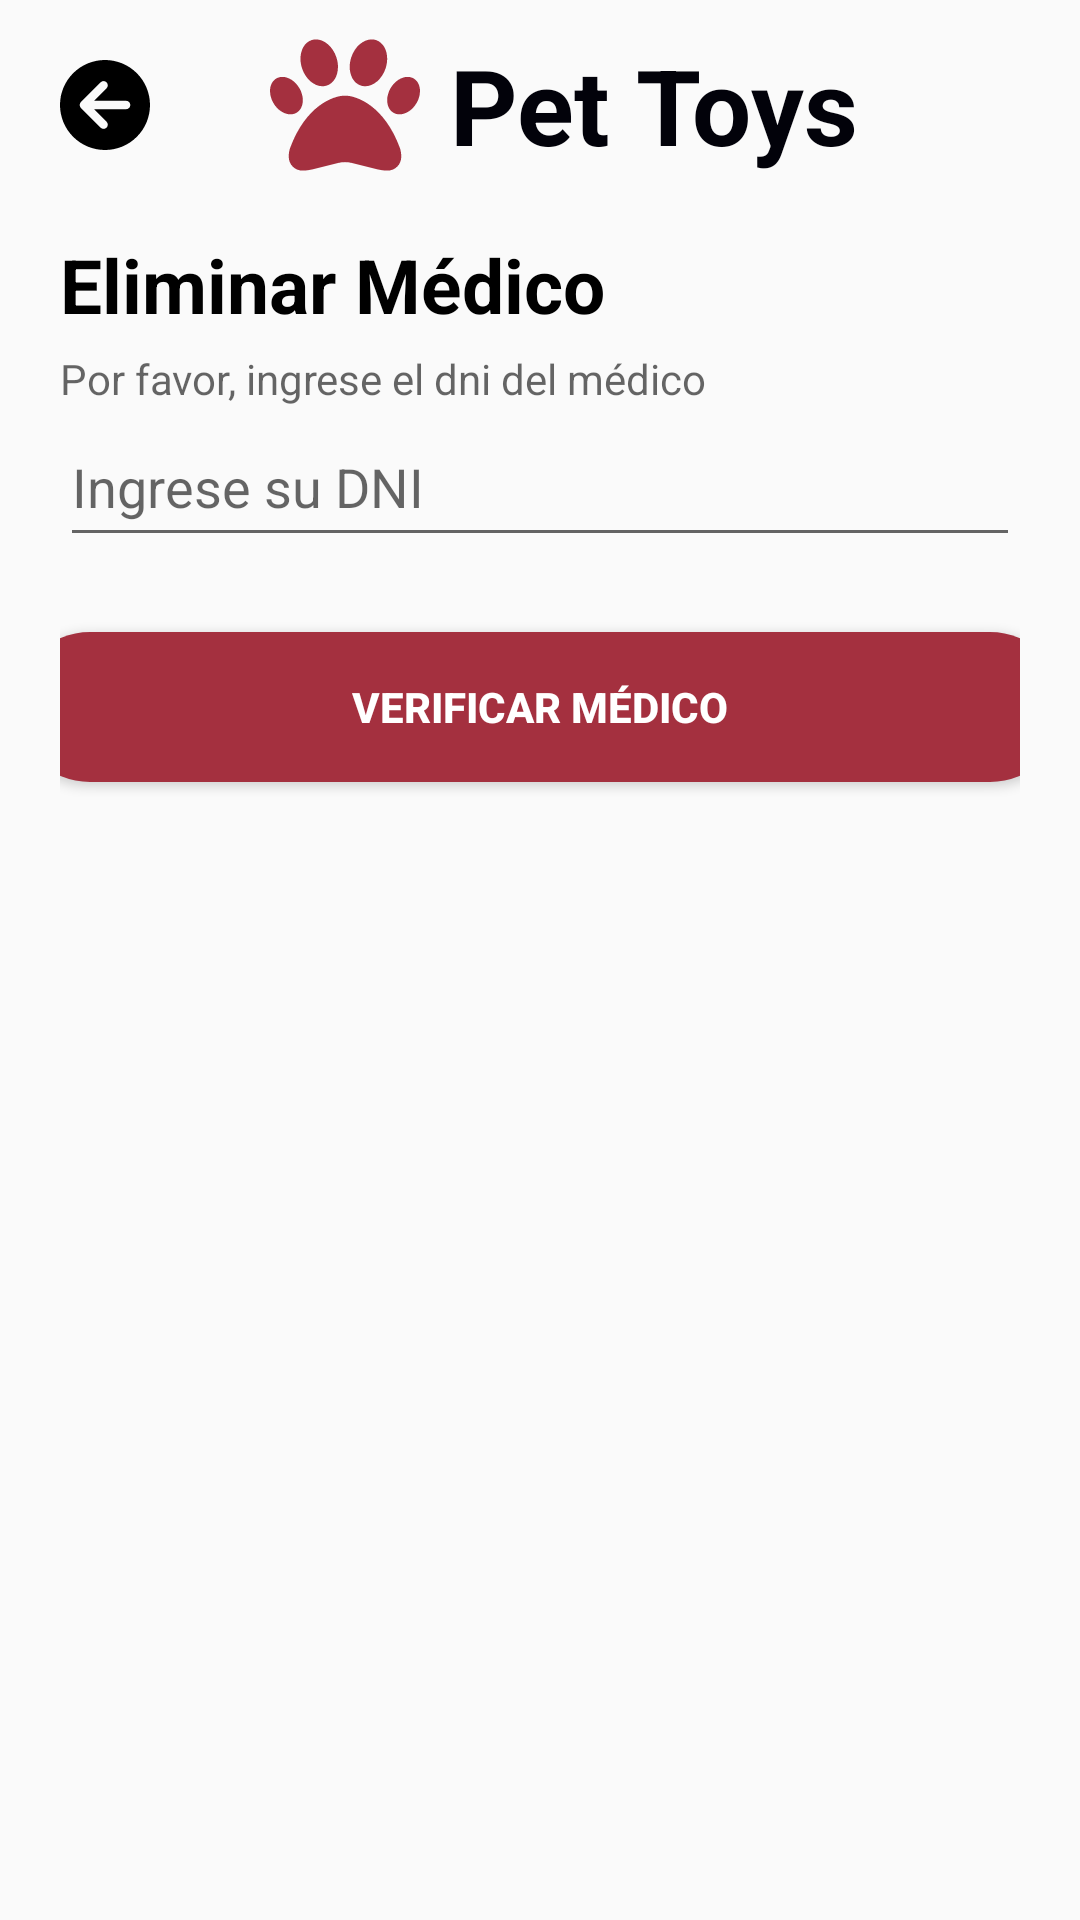

Screen size 1080x1920. Icon name, then its box in pixels as (x1, y1, x2, y2):
paw: (270, 39, 420, 171)
